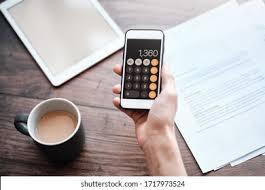Calculator: (120, 46, 162, 100)
